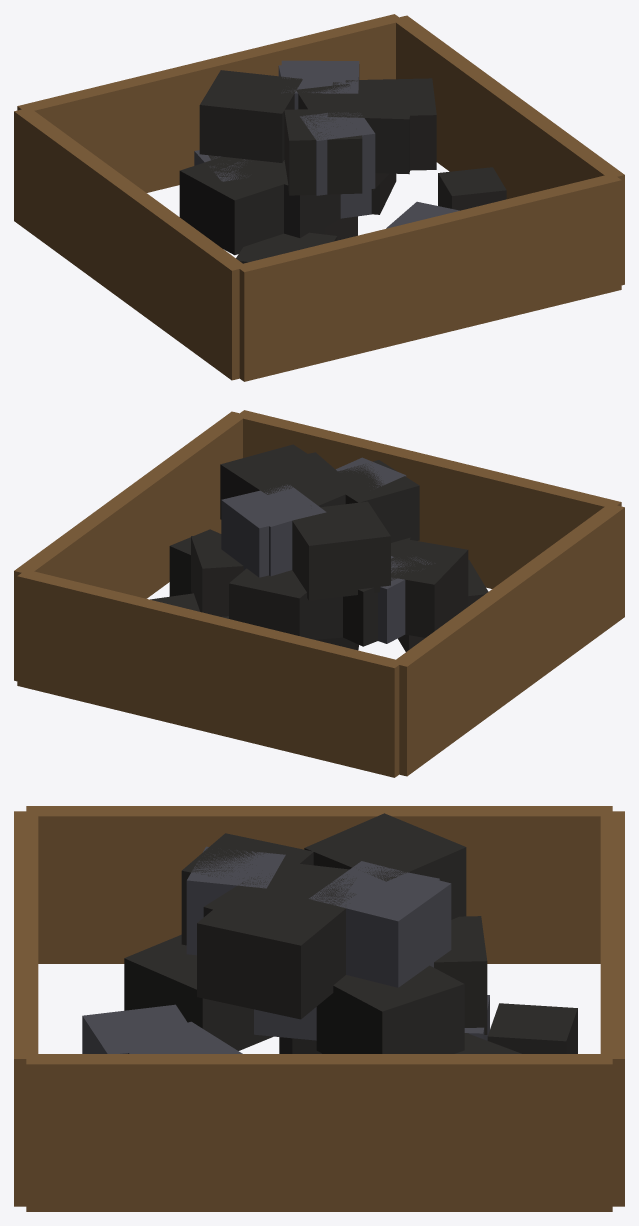
File: pile_coal_3.glb
The picture shows the model from 3 angles, top to bottom: view 1: azimuth 30°, elevation 25°; view 2: azimuth 150°, elevation 25°; view 3: azimuth 270°, elevation 25°; orthographic projection. The views are drawn at different scales.
Parts seen in each view (by area): view 1: pile_coal_3; view 2: pile_coal_3; view 3: pile_coal_3.
Part boxes in pixels (x1,y1,x2,y2): pile_coal_3: (14, 14, 624, 381); pile_coal_3: (14, 410, 624, 777); pile_coal_3: (14, 806, 624, 1211).
Size of the model in its own units: 1.5 by 0.56 by 1.5.
